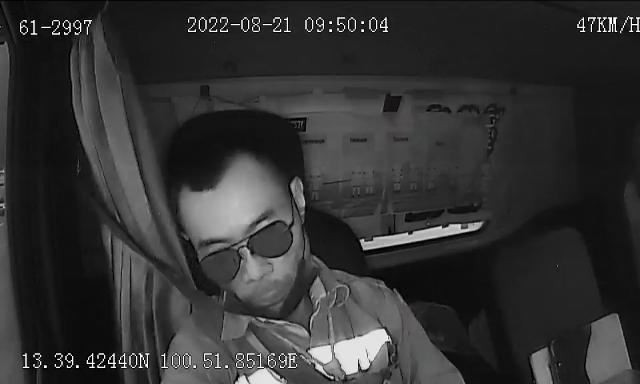SafeDriving: (414, 96, 460, 119)
Seatbelt: (90, 212, 376, 384)
